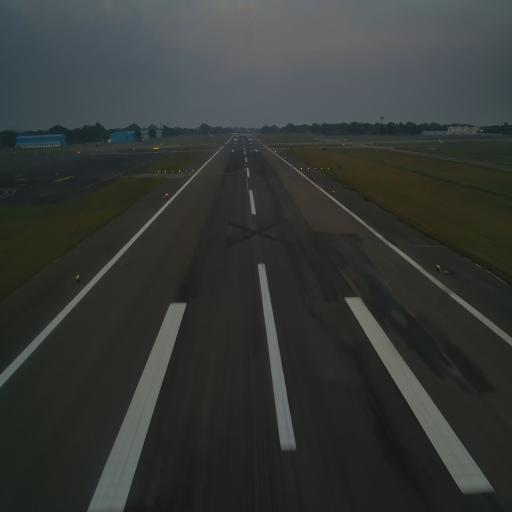on: (435, 261, 441, 272), (76, 270, 80, 282), (332, 188, 336, 195), (165, 192, 169, 198)
